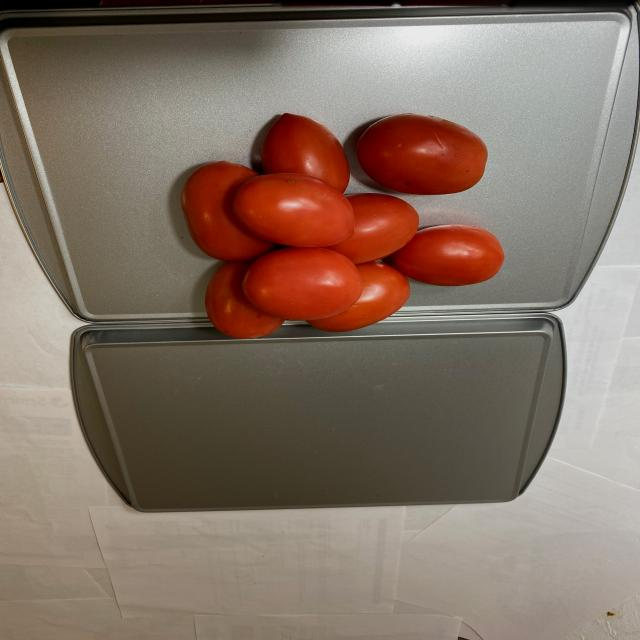tomato: (157, 110, 511, 338)
